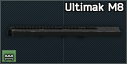M14 Ultimak M8 Forward Optic mount: (0, 0, 127, 64)
